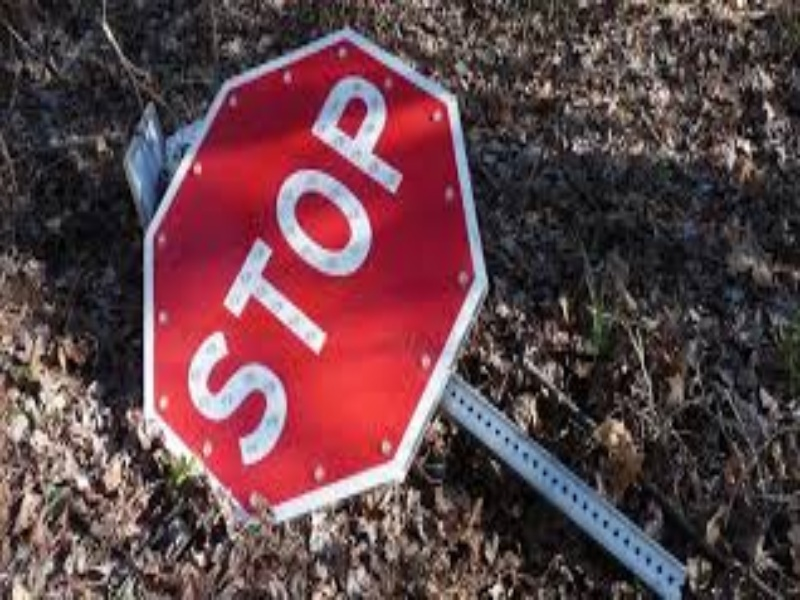Stop_Sign: (142, 31, 482, 525)
